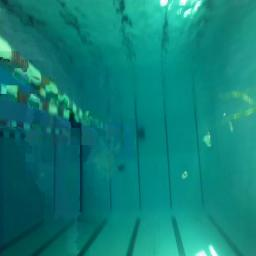Full: (136, 125, 146, 142), (116, 162, 127, 172)
